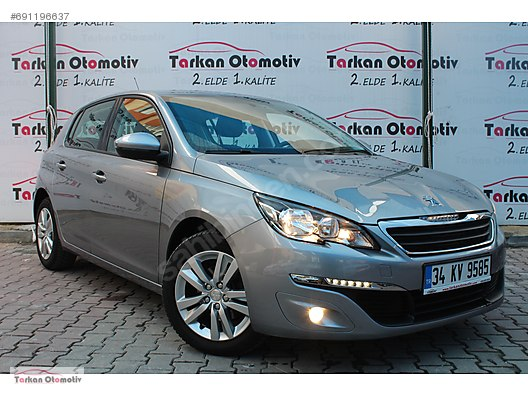peugeot: (34, 90, 517, 355)
